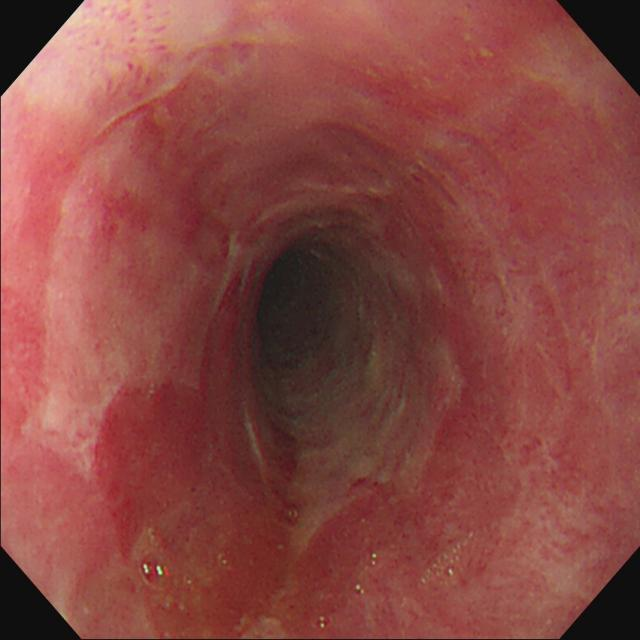A: (435, 205, 640, 637), (94, 382, 299, 640), (95, 111, 231, 277), (301, 475, 435, 640), (82, 4, 176, 99)
T: (135, 550, 176, 598)
